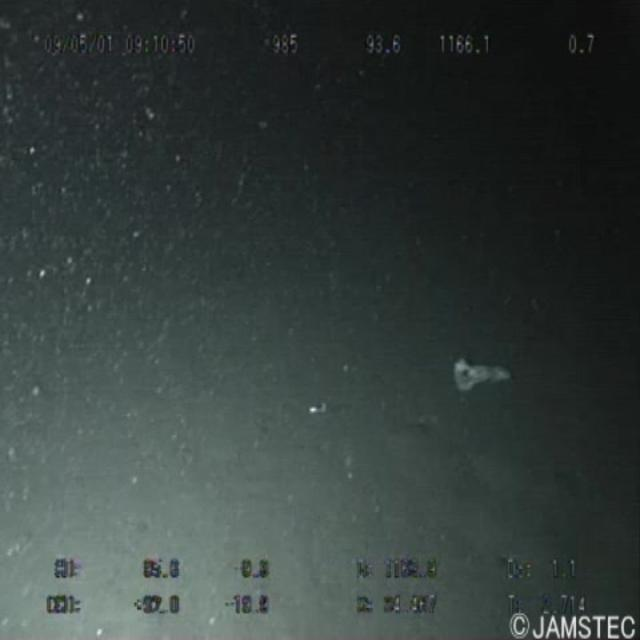Plastic: (448, 329, 518, 410)
